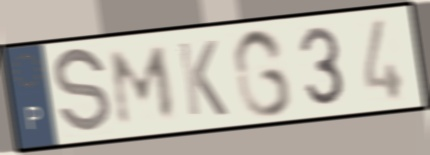3: (296, 23, 347, 111)
4: (361, 14, 408, 105)
G: (230, 25, 295, 120)
K: (174, 37, 231, 120)
M: (108, 43, 178, 129)
S: (51, 44, 114, 140)
